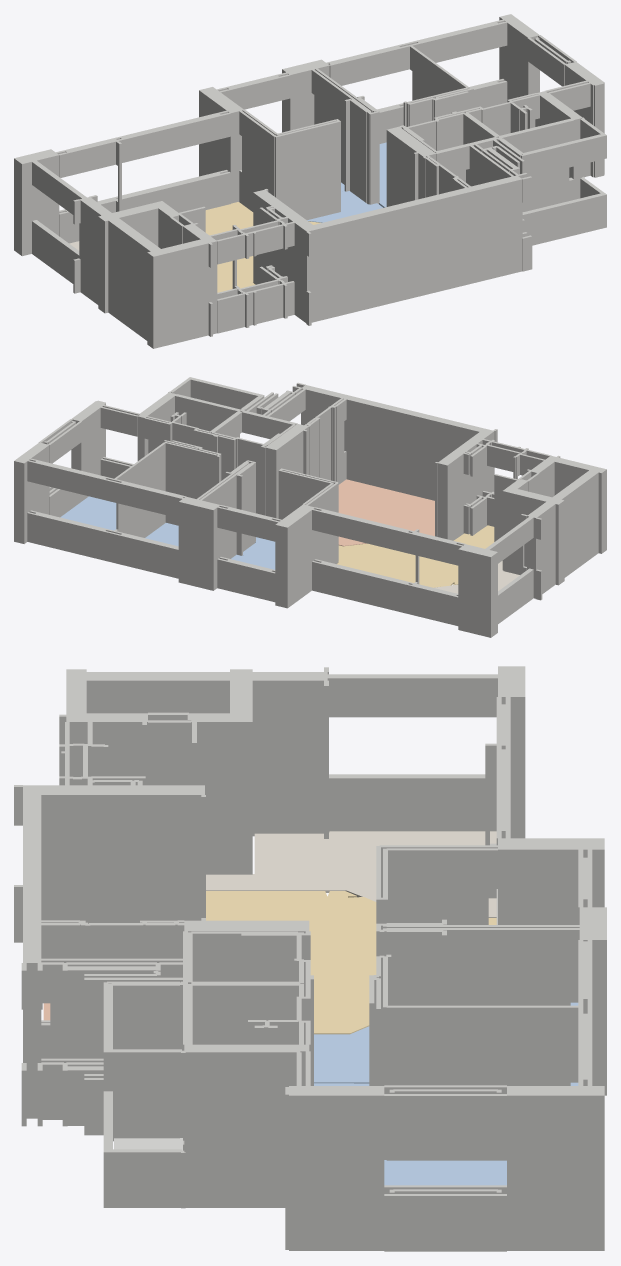
3 renders of one model, top to bottom at view 1: azimuth 30°, elevation 25°; view 2: azimuth 150°, elevation 25°; view 3: azimuth 270°, elevation 25°, orthographic. The views are drawn at different scales.
Visible parts, largest first — view 1: walls, room:living:8, room:bedroom:9, room:bedroom:7; view 2: walls, room:living:8, room:kitchen:1, room:bedroom:5, room:bedroom:9, room:bedroom:7, room:other:10; view 3: walls, room:living:8, room:other:10, room:bedroom:5, room:bedroom:9, room:ledge:4.
Part boxes in pixels (x1=…): walls: x1=14, y1=14, x2=606, y2=348; room:living:8: x1=205, y1=202, x2=321, y2=292; room:bedroom:9: x1=307, y1=182, x2=383, y2=222; room:bedroom:7: x1=379, y1=142, x2=386, y2=207; walls: x1=14, y1=377, x2=606, y2=637; room:living:8: x1=337, y1=525, x2=494, y2=587; room:kitchen:1: x1=338, y1=479, x2=434, y2=546; room:bedroom:5: x1=60, y1=496, x2=116, y2=530; room:bedroom:9: x1=231, y1=537, x2=275, y2=569; room:bedroom:7: x1=145, y1=523, x2=178, y2=546; room:other:10: x1=433, y1=561, x2=519, y2=593; walls: x1=14, y1=666, x2=606, y2=1251; room:living:8: x1=206, y1=891, x2=496, y2=1034; room:other:10: x1=206, y1=831, x2=496, y2=917; room:bedroom:5: x1=384, y1=1160, x2=506, y2=1185; room:bedroom:9: x1=314, y1=1002, x2=578, y2=1083; room:ledge:4: x1=114, y1=1138, x2=182, y2=1150.
Size of the model in its own units: 16.58 by 2.8 by 9.67.
